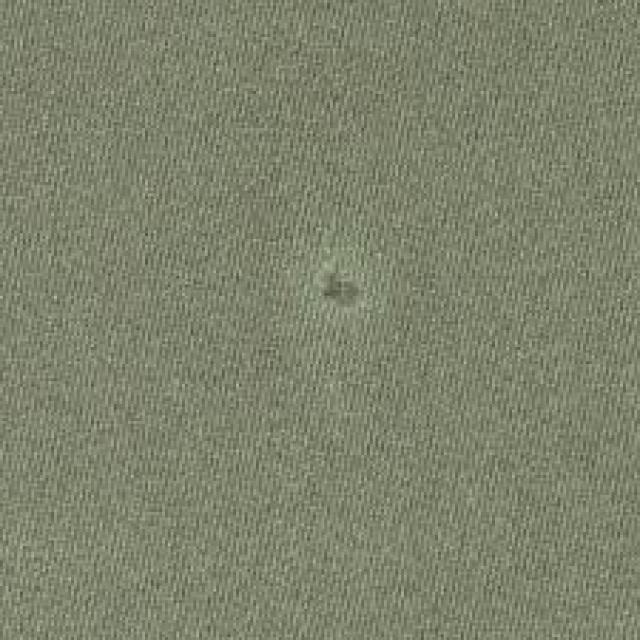seam: (273, 226, 408, 360)
